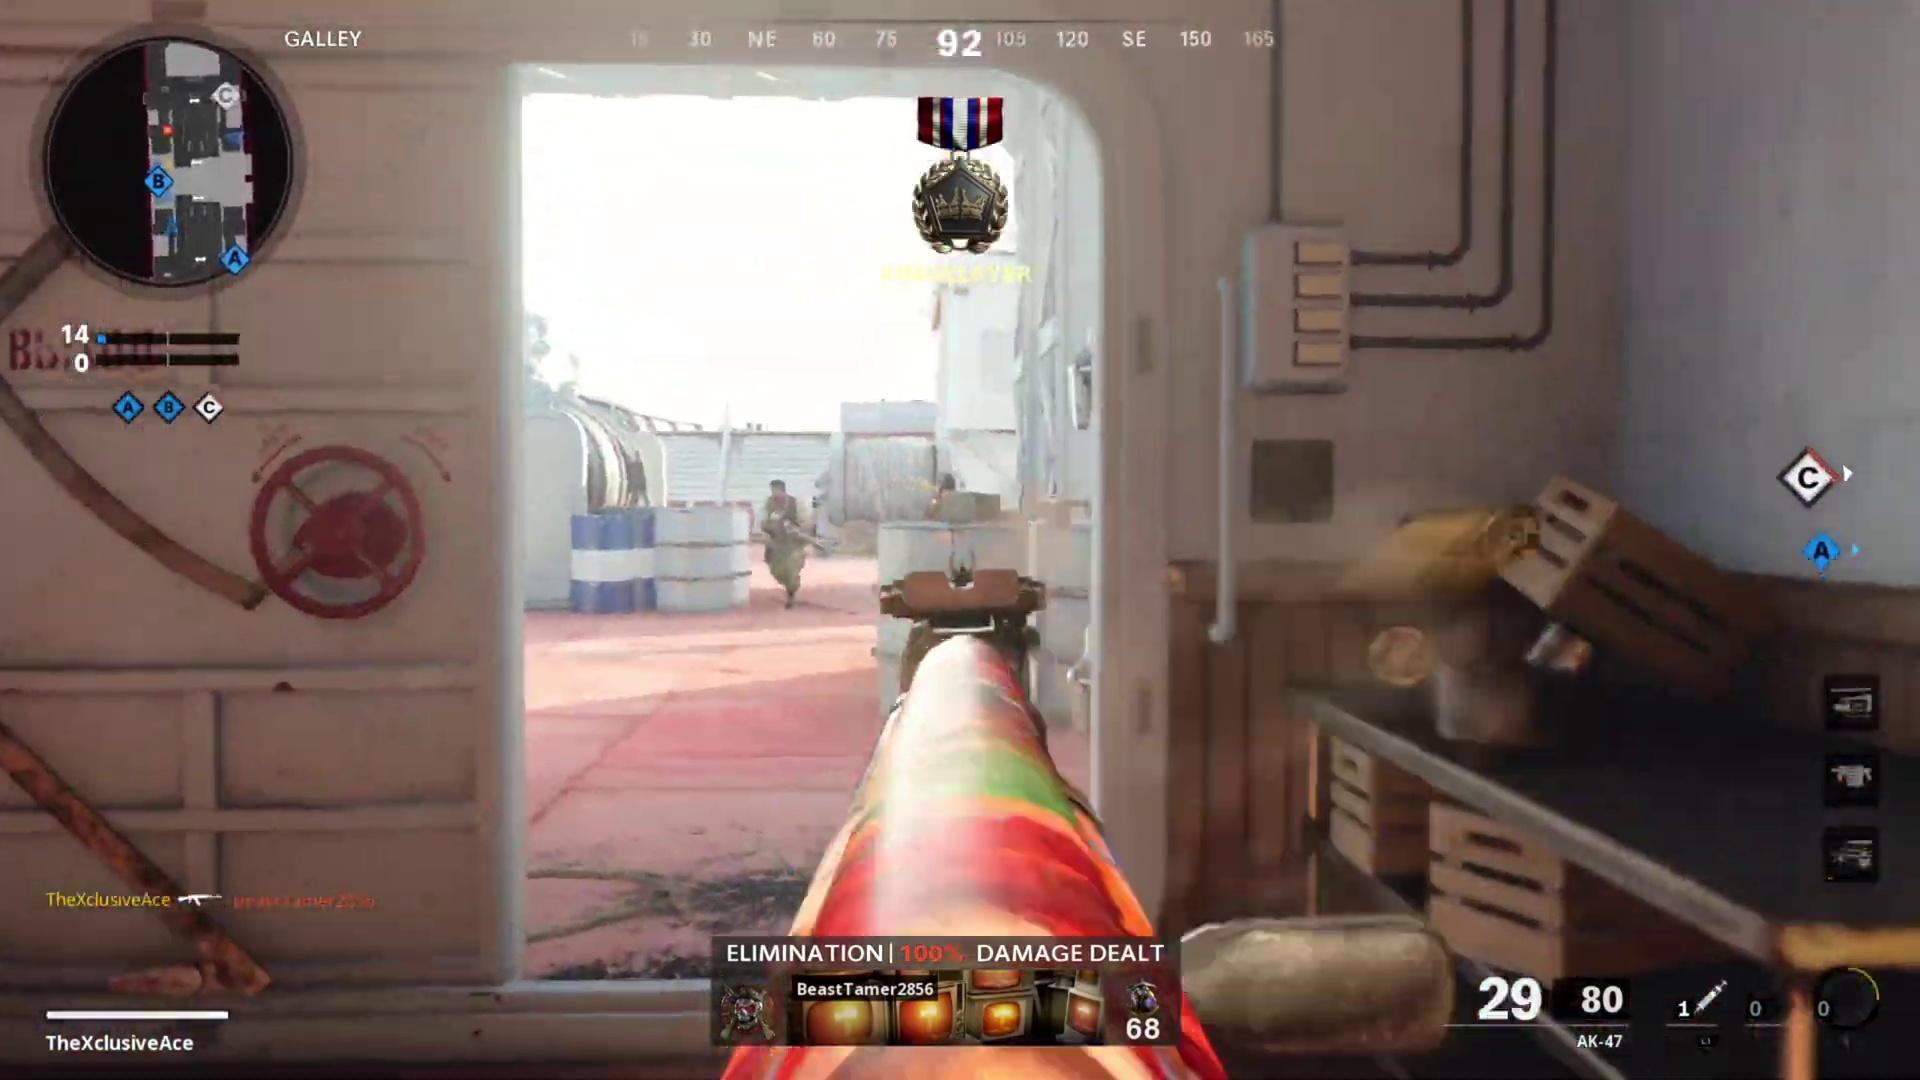head: (764, 476, 789, 506), (934, 470, 959, 499)
person: (757, 477, 823, 604)
